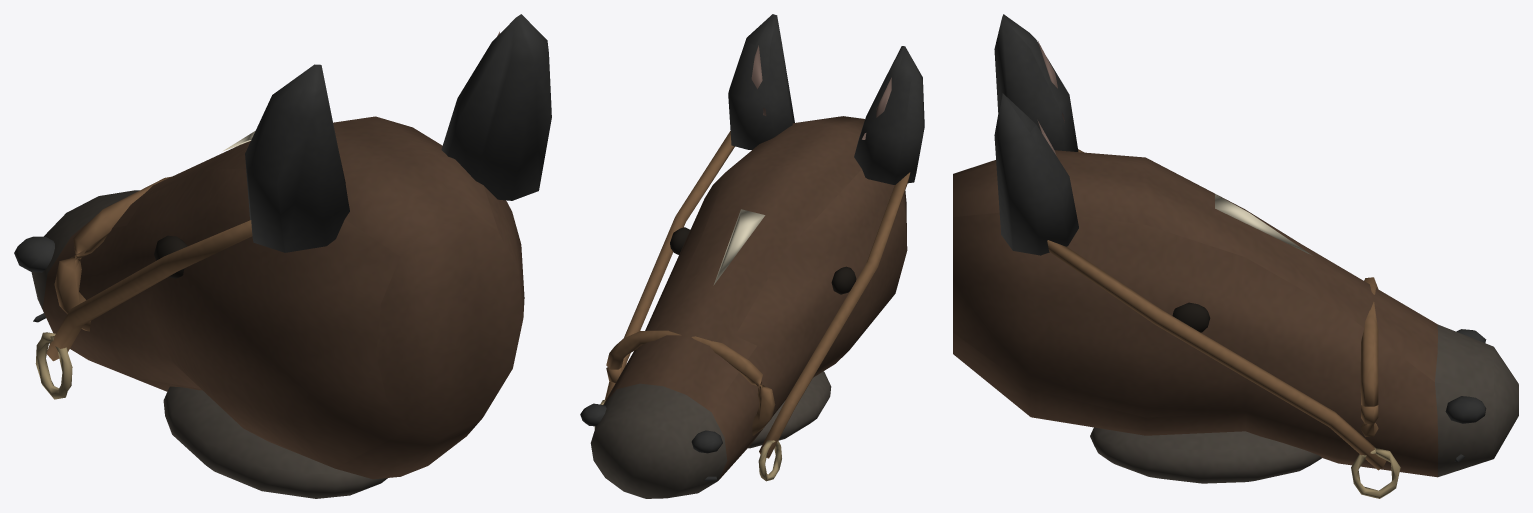
File: head_lod1.glb
The picture shows the model from 3 angles, left to right: view 1: azimuth 30°, elevation 25°; view 2: azimuth 150°, elevation 25°; view 3: azimuth 270°, elevation 25°; orthographic projection. The views are drawn at different scales.
Visible parts, largest first — view 1: agro_head_LOD1; view 2: agro_head_LOD1; view 3: agro_head_LOD1.
Part boxes in pixels (x1,y1,x2,y2): agro_head_LOD1: (14, 14, 551, 498); agro_head_LOD1: (580, 14, 924, 498); agro_head_LOD1: (953, 14, 1518, 498).
Bounding box in the file's own units: 0.41 × 0.6462 × 0.801.
8 materials, 4 textured.
